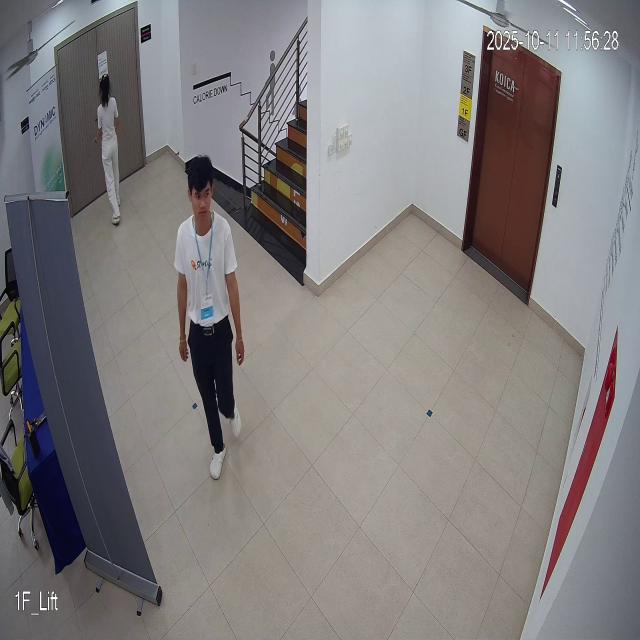face: (185, 145, 222, 237)
